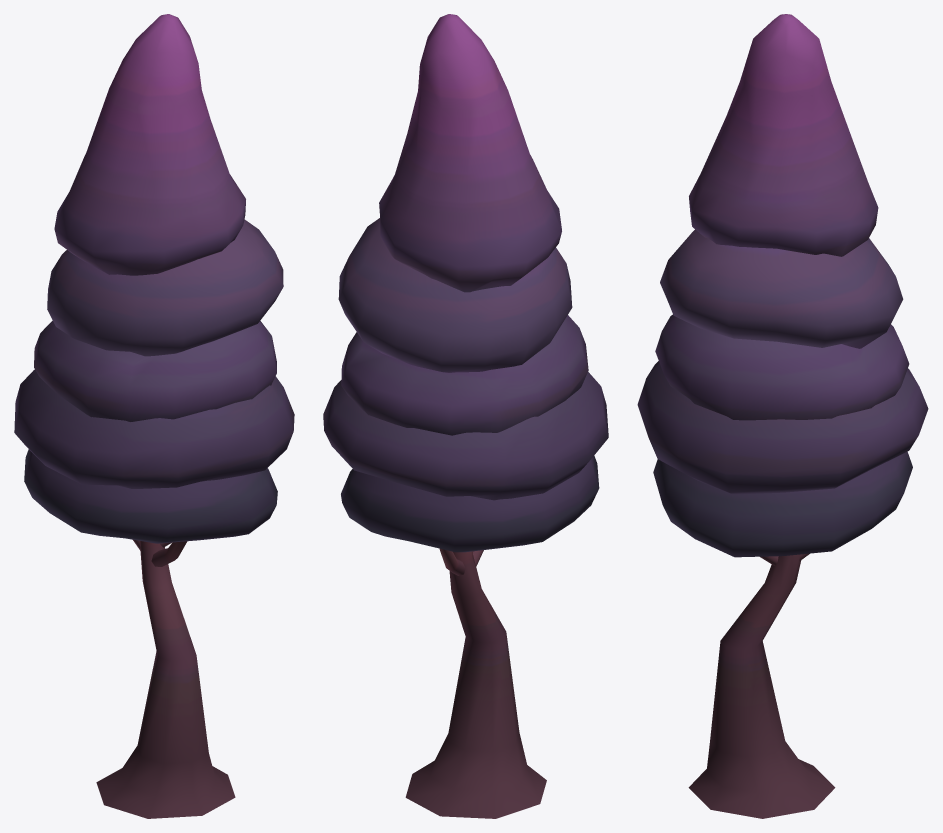
Rendered from Tree_23.fbx.
The picture shows the model from 3 angles, left to right: view 1: azimuth 30°, elevation 25°; view 2: azimuth 150°, elevation 25°; view 3: azimuth 270°, elevation 25°; orthographic projection. The views are drawn at different scales.
Parts seen in each view (by area): view 1: Tree_23; view 2: Tree_23; view 3: Tree_23.
Boxes of the visible parts, x1,y1,x2,y2 form: Tree_23: (14, 14, 294, 818); Tree_23: (323, 14, 608, 818); Tree_23: (637, 14, 928, 818).
Bounding box in the file's own units: 155 × 472 × 160.
